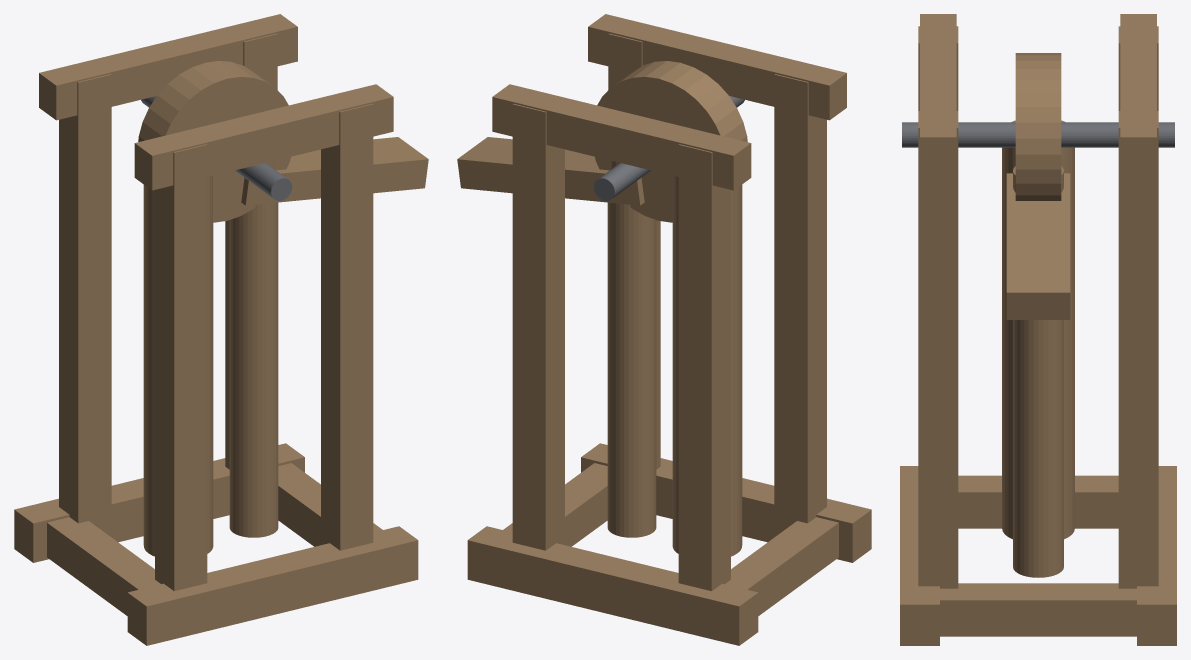
Rendered from mine_dewatering_pump.glb.
3 renders of one model, left to right at view 1: azimuth 30°, elevation 25°; view 2: azimuth 150°, elevation 25°; view 3: azimuth 270°, elevation 25°, orthographic. The views are drawn at different scales.
Parts seen in each view (by area): view 1: Cube.006, Cube.005, Cube.004, Cylinder.003, Cube, Cube.008, Cube.009, Cylinder, Cylinder.002, Cube.002, Cube.001, Cube.010 (+3 smaller); view 2: Cube.004, Cube.007, Cube.006, Cylinder.003, Cube.001, Cube.009, Cube.008, Cylinder, Cylinder.002, Cube.002, Cube, Cube.010 (+3 smaller); view 3: Cube.005, Cube.007, Cylinder.003, Cube.003, Cube.010, Cylinder.002, Cylinder, Cube.008, Cube.009, Cube.002, Cube, Cube.001 (+3 smaller).
Boxes of the visible parts, <box> form: Cube.006: <box>59,74,111,533</box>; Cube.005: <box>321,103,373,550</box>; Cube.004: <box>155,144,207,591</box>; Cylinder.003: <box>229,161,278,537</box>; Cube: <box>127,526,418,645</box>; Cube.008: <box>134,84,393,190</box>; Cube.009: <box>39,14,297,120</box>; Cylinder: <box>138,61,290,222</box>; Cylinder.002: <box>143,176,213,556</box>; Cube.002: <box>47,517,160,615</box>; Cube.001: <box>14,443,304,562</box>; Cube.010: <box>241,137,428,205</box>; Cube.004: <box>774,74,826,533</box>; Cube.007: <box>512,103,564,550</box>; Cube.006: <box>678,144,730,591</box>; Cylinder.003: <box>607,161,656,537</box>; Cube.001: <box>467,526,758,645</box>; Cube.009: <box>492,84,751,190</box>; Cube.008: <box>588,14,846,120</box>; Cylinder: <box>595,61,747,222</box>; Cylinder.002: <box>672,176,742,556</box>; Cube.002: <box>725,517,838,615</box>; Cube: <box>581,443,871,562</box>; Cube.010: <box>457,137,644,205</box>; Cube.005: <box>918,111,958,588</box>; Cube.007: <box>1118,111,1158,588</box>; Cylinder.003: <box>1013,166,1063,577</box>; Cube.003: <box>940,583,1136,636</box>; Cube.010: <box>1006,173,1070,319</box>; Cylinder.002: <box>1002,120,1074,539</box>; Cylinder: <box>1015,53,1061,200</box>; Cube.008: <box>920,14,956,173</box>; Cube.009: <box>1120,14,1156,173</box>; Cube.002: <box>958,475,1118,528</box>; Cube: <box>900,466,939,645</box>; Cube.001: <box>1137,466,1176,645</box>.
Bounding box in the file's own units: 2.21 × 3.13 × 1.52.
